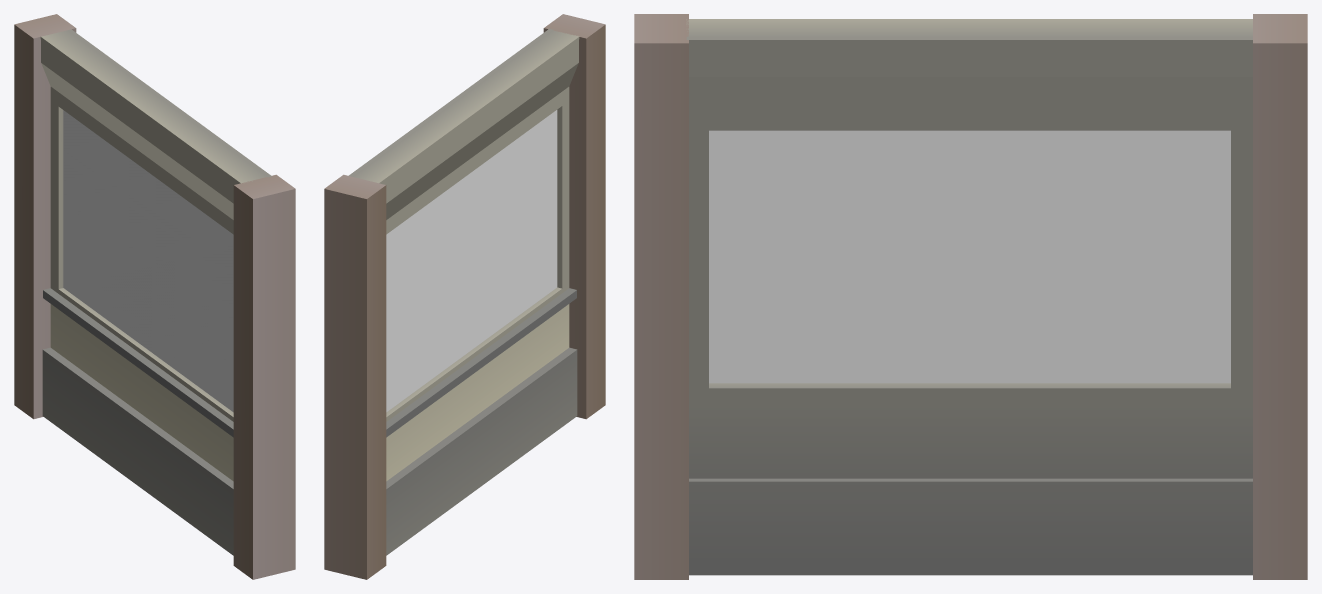
The model's file is B01_fenetre_1.fbx.
The picture shows the model from 3 angles, left to right: view 1: azimuth 30°, elevation 25°; view 2: azimuth 150°, elevation 25°; view 3: azimuth 270°, elevation 25°; orthographic projection. The views are drawn at different scales.
Parts seen in each view (by area): view 1: B01_fenetre_1; view 2: B01_fenetre_1; view 3: B01_fenetre_1.
Boxes of the visible parts, bbox=[...] form: B01_fenetre_1: bbox=[14, 14, 295, 579]; B01_fenetre_1: bbox=[324, 14, 605, 579]; B01_fenetre_1: bbox=[634, 14, 1307, 579].
Size of the model in its own units: 35.78 by 305 by 347.
